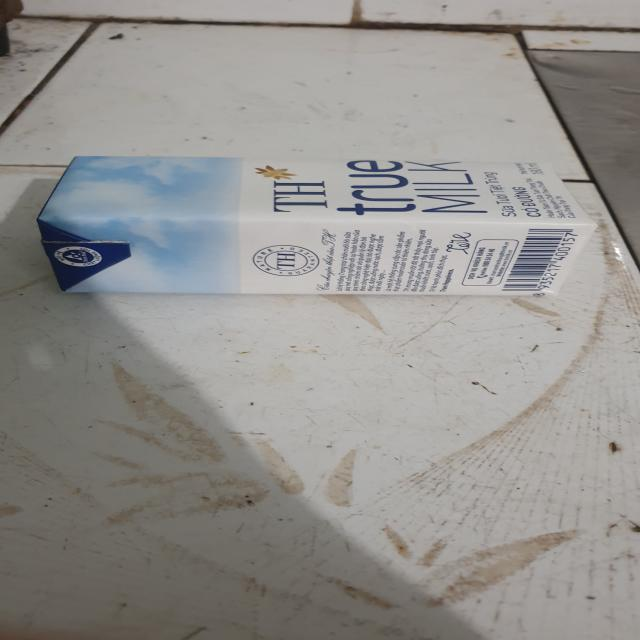TH: (35, 152, 591, 298)
